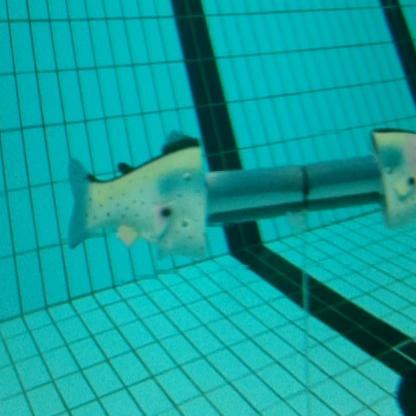tail: (67, 127, 209, 262)
